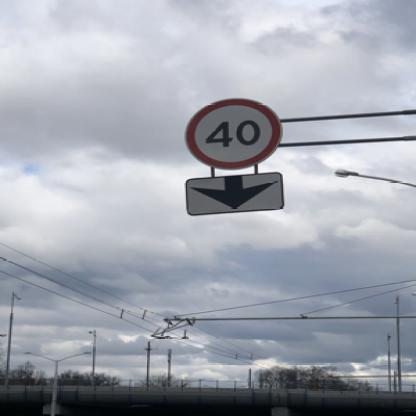speedlimit: (181, 96, 282, 169)
